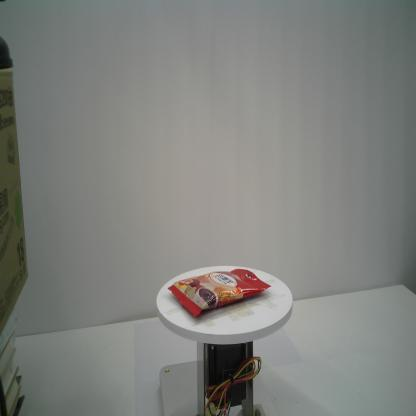Instant Drink: (163, 264, 274, 320)
